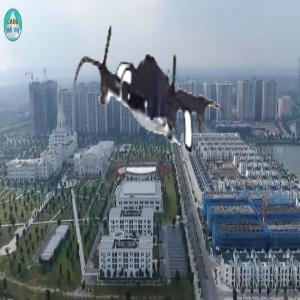drone: (69, 11, 238, 180)
